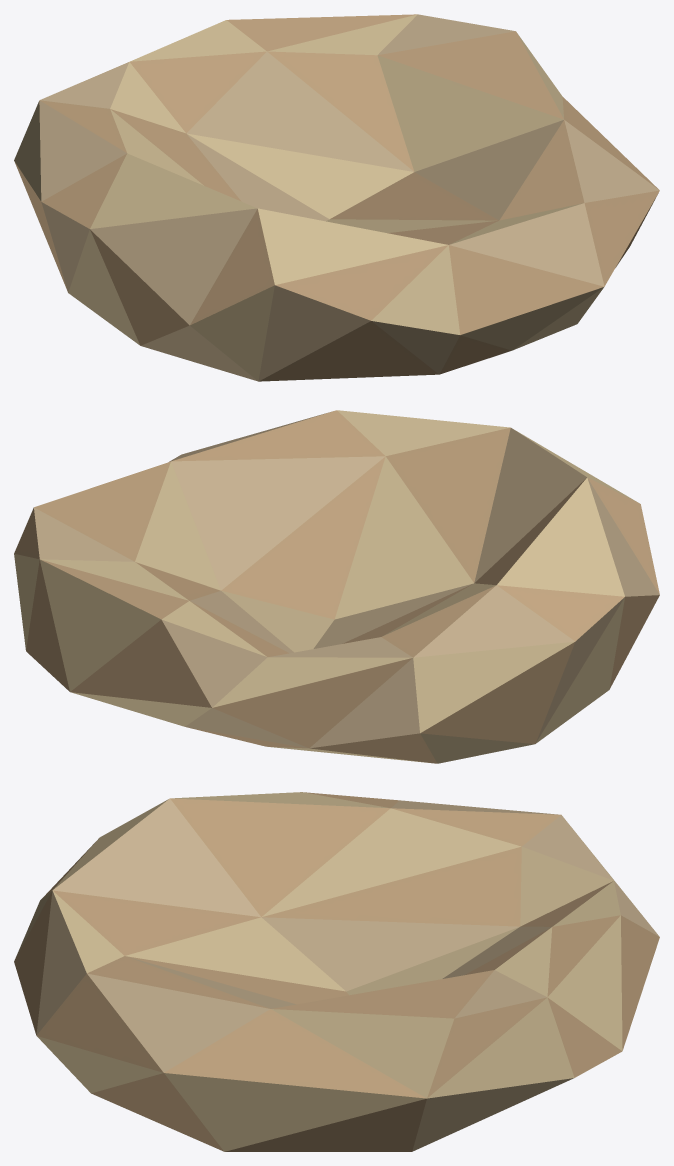
The model's file is isla_bosque_nido_v1.FBX.
3 views of the same model, one above another, from view 1: azimuth 30°, elevation 25°; view 2: azimuth 150°, elevation 25°; view 3: azimuth 270°, elevation 25° (orthographic). The views are drawn at different scales.
Visible parts, largest first — view 1: Isla_Bosque_nido; view 2: Isla_Bosque_nido; view 3: Isla_Bosque_nido.
Boxes of the visible parts, x1,y1,x2,y2 form: Isla_Bosque_nido: (14, 14, 659, 381); Isla_Bosque_nido: (14, 410, 659, 763); Isla_Bosque_nido: (14, 792, 659, 1151).
Bounding box in the file's own units: 32.5 × 9.05 × 33.72.
Materials: 1 (1 with a texture image).
